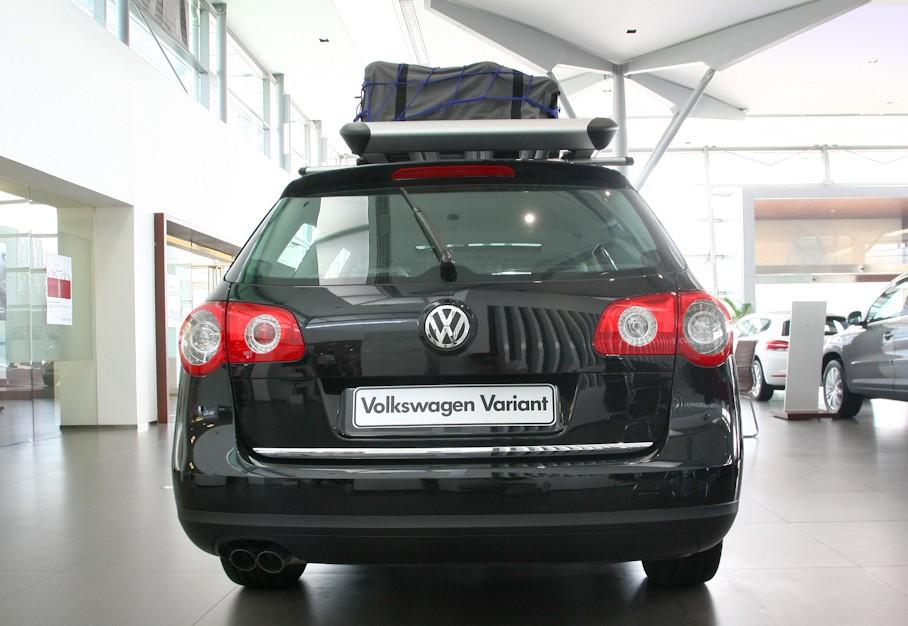Wagon: (169, 159, 745, 591)
